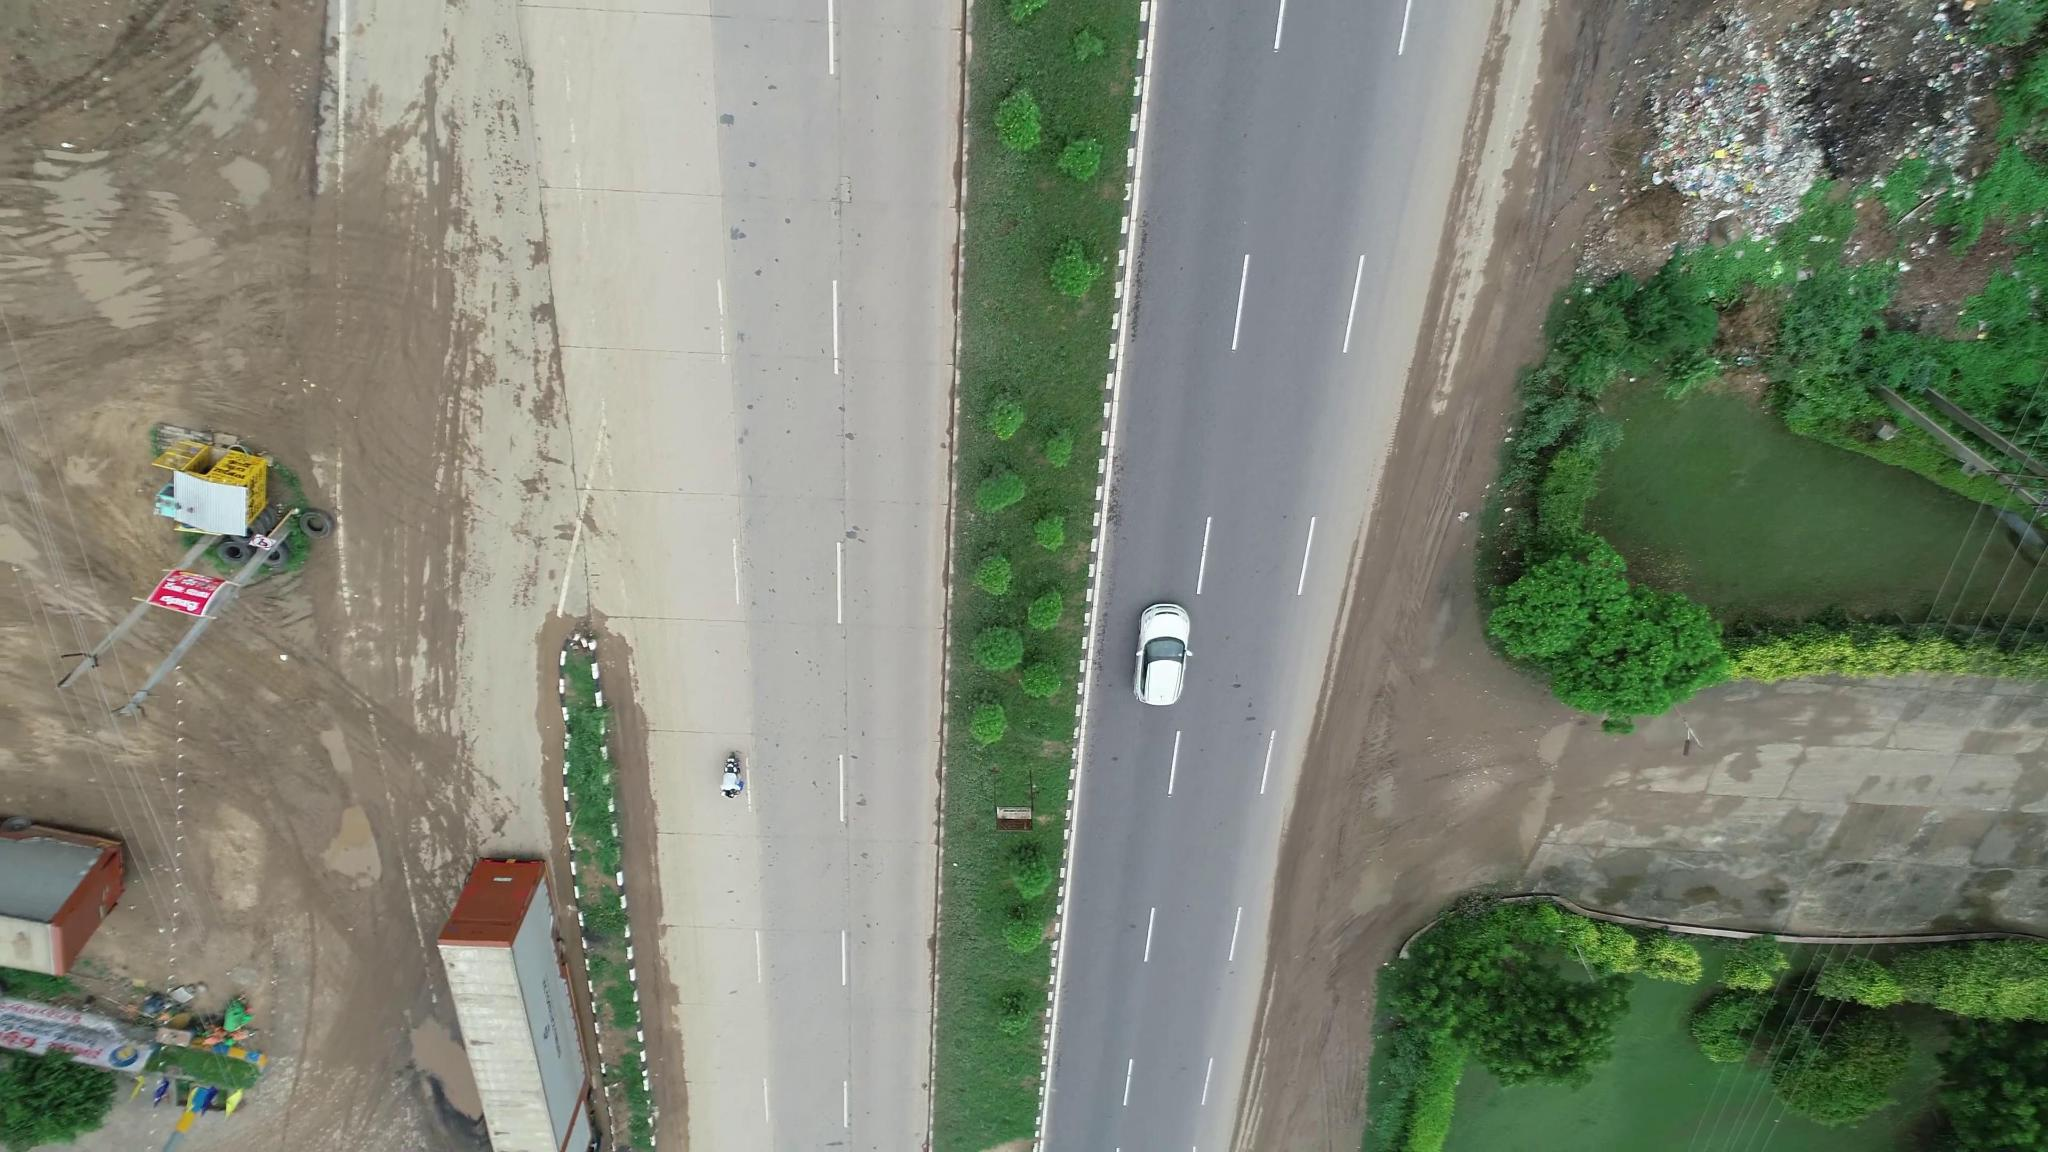Muddy_road: (1288, 608, 1477, 982)
